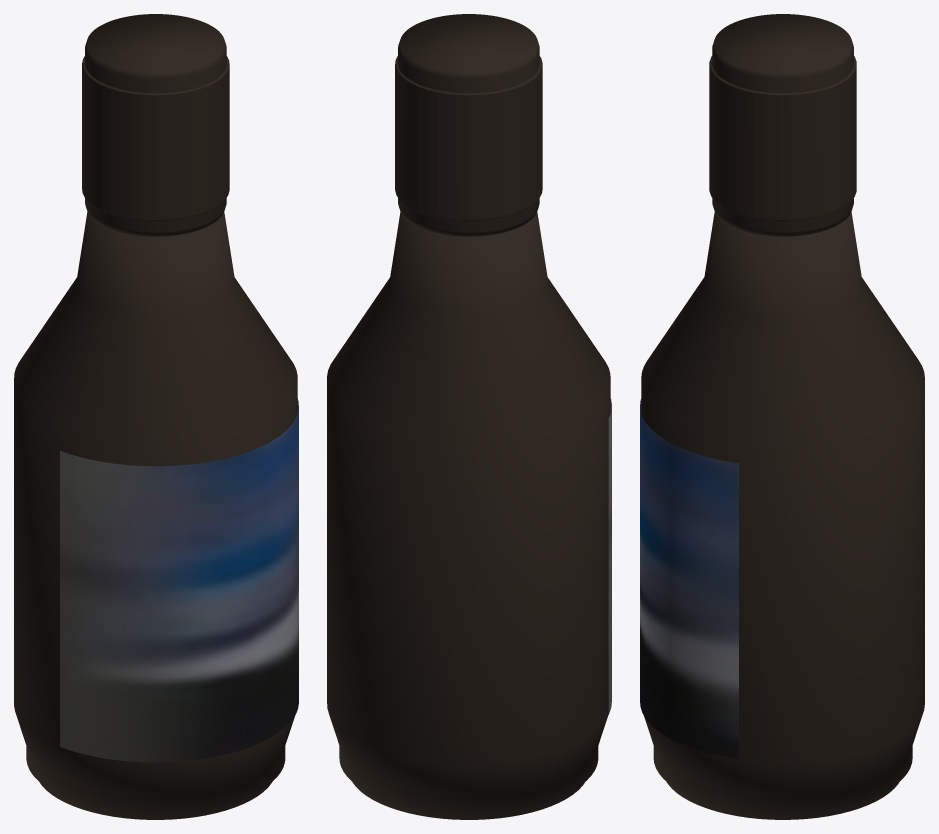
File: pantry_contents__small_dark_bottle.glb
The picture shows the model from 3 angles, left to right: view 1: azimuth 30°, elevation 25°; view 2: azimuth 150°, elevation 25°; view 3: azimuth 270°, elevation 25°; orthographic projection.
Parts seen in each view (by area): view 1: small_dark_bottle__body, small_dark_bottle__cap; view 2: small_dark_bottle__body, small_dark_bottle__cap; view 3: small_dark_bottle__body, small_dark_bottle__cap.
Part boxes in pixels (x1,y1,x2,y2): small_dark_bottle__body: (14, 212, 298, 819); small_dark_bottle__cap: (82, 14, 229, 236); small_dark_bottle__body: (327, 212, 611, 819); small_dark_bottle__cap: (395, 14, 542, 236); small_dark_bottle__body: (640, 211, 924, 819); small_dark_bottle__cap: (709, 14, 856, 236).
Size of the model in its own units: 0.0277 by 0.0782 by 0.0278.
Materials: 3 (1 with a texture image).
